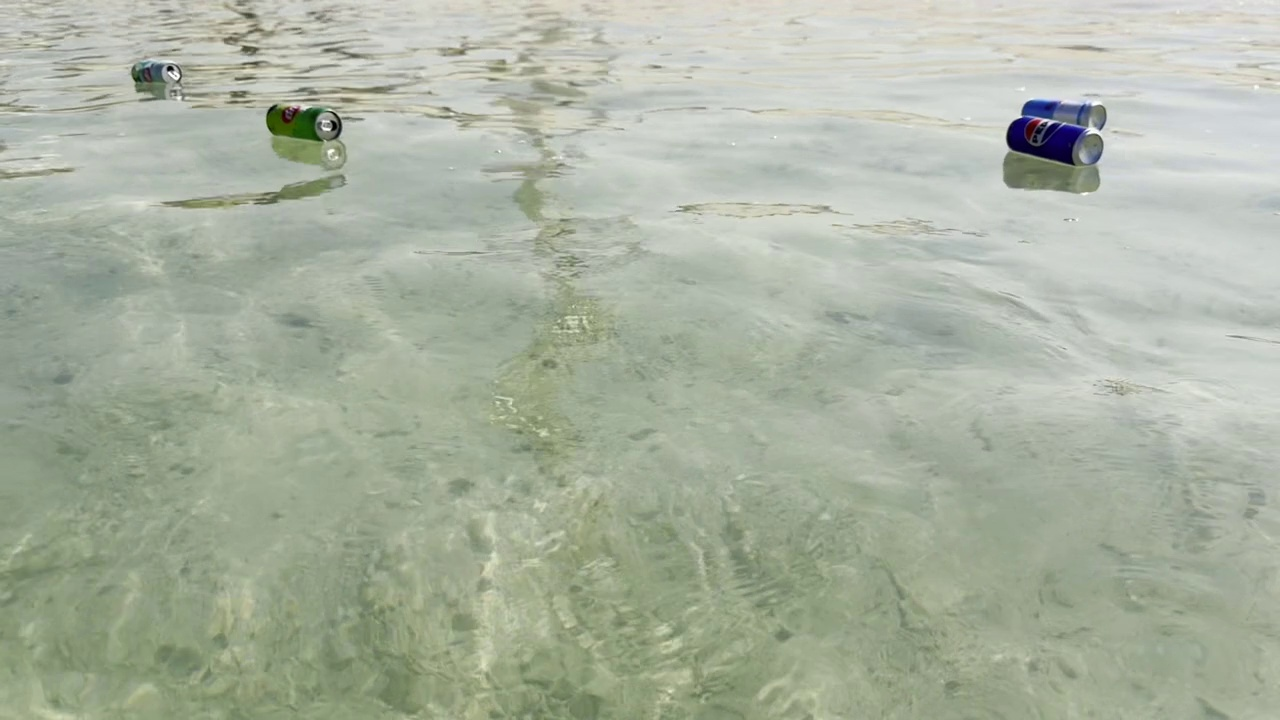debris: (997, 111, 1109, 176), (1010, 91, 1110, 140), (262, 95, 347, 144), (122, 57, 190, 87)
